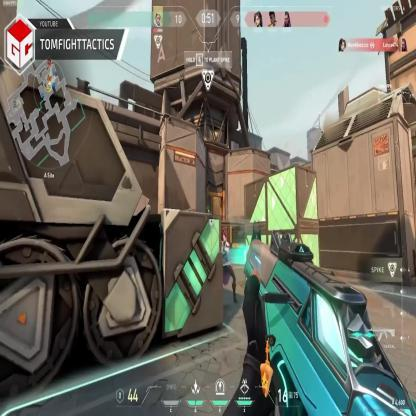enemy: (216, 231, 236, 306), (207, 209, 210, 220)
enemy_head: (222, 230, 227, 242), (207, 209, 209, 211)
